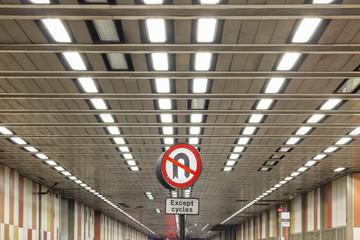no_u_turn: (159, 143, 201, 187)
